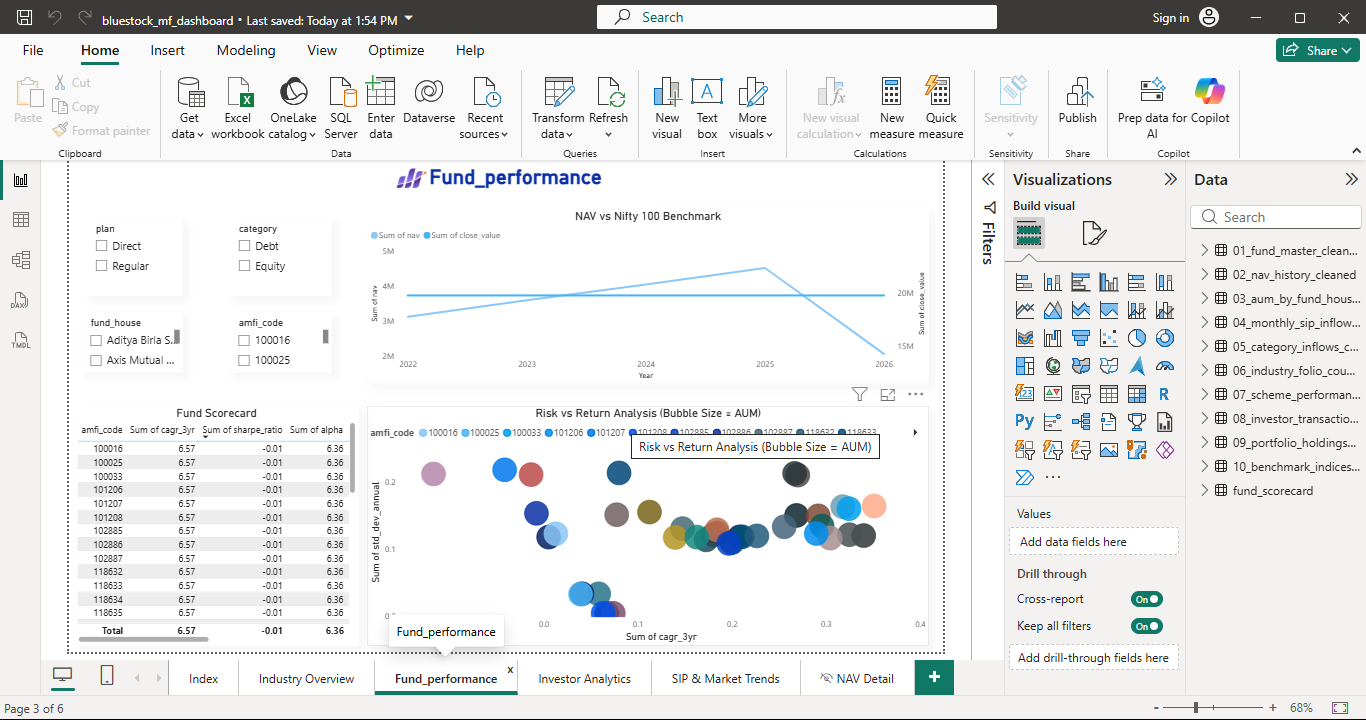

This screenshot's page, from the dashboard's own definition file:
{"tool":"powerbi","page":{"name":"Fund_performance","canvas":[1280,720],"ordinal":2},"visuals":[{"type":"scatterChart","title":"Risk vs Return Analysis (Bubble Size = AUM)","fields":{"X":["Sum(fund_scorecard.cagr_3yr)"],"Series":["fund_scorecard.amfi_code"],"Y":["Sum(fund_scorecard.std_dev_annual)"],"Size":["CountNonNull(03_aum_by_fund_house_cleaned.fund_house)"]},"box":[436.1,360,822.4,351.2],"z":0},{"type":"tableEx","title":"Fund Scorecard","fields":{"Values":["02_nav_history_cleaned.amfi_code","Sum(fund_scorecard.cagr_3yr)","Sum(fund_scorecard.sharpe_ratio)","Sum(fund_scorecard.alpha)","Sum(fund_scorecard.expense_ratio_pct)","Sum(fund_scorecard.max_drawdown)","Sum(fund_scorecard.fund_score)"]},"box":[7.3,360,417.1,351.2],"z":1000},{"type":"lineChart","title":"NAV vs Nifty 100 Benchmark","fields":{"Category":["02_nav_history_cleaned.date.Variation.Date Hierarchy.Year","02_nav_history_cleaned.date.Variation.Date Hierarchy.Quarter","02_nav_history_cleaned.date.Variation.Date Hierarchy.Month","02_nav_history_cleaned.date.Variation.Date Hierarchy.Day"],"Y":["Sum(02_nav_history_cleaned.nav)"],"Y2":["Sum(10_benchmark_indices_cleaned.close_value)"]},"box":[436.1,71.7,822.4,254.6],"z":2000},{"type":"slicer","fields":{"Values":["03_aum_by_fund_house_cleaned.fund_house"]},"box":[19,225.4,147.8,86.3],"z":3000},{"type":"slicer","fields":{"Values":["01_fund_master_cleaned.category"]},"box":[235.6,87.8,149.3,111.2],"z":4000},{"type":"slicer","fields":{"Values":["01_fund_master_cleaned.plan"]},"box":[26.3,87.8,140.5,111.2],"z":5000},{"type":"slicer","fields":{"Values":["01_fund_master_cleaned.amfi_code"]},"box":[235.6,225.4,149.3,86.3],"z":6000},{"type":"textbox","title":"Fund_performance","box":[453.5,6.7,399.8,65.5],"z":7000},{"type":"image","box":[362.9,0,275.1,52.7],"z":8000}]}

Visuals, with their boxes on the page's 1280x720 design canvas (x1, y1, x2, y2). These are canvas units, not pixel positions in the 1366x720 screenshot, which may show the page scaled, cropped or inside an application window:
"Risk vs Return Analysis (Bubble Size = AUM)" scatterChart: BBox(436, 360, 1258, 711)
"Fund Scorecard" tableEx: BBox(7, 360, 424, 711)
"NAV vs Nifty 100 Benchmark" lineChart: BBox(436, 72, 1258, 326)
slicer - 03_aum_by_fund_house_cleaned.fund_house: BBox(19, 225, 167, 312)
slicer - 01_fund_master_cleaned.category: BBox(236, 88, 385, 199)
slicer - 01_fund_master_cleaned.plan: BBox(26, 88, 167, 199)
slicer - 01_fund_master_cleaned.amfi_code: BBox(236, 225, 385, 312)
"Fund_performance" textbox: BBox(454, 7, 853, 72)
image: BBox(363, 0, 638, 53)
